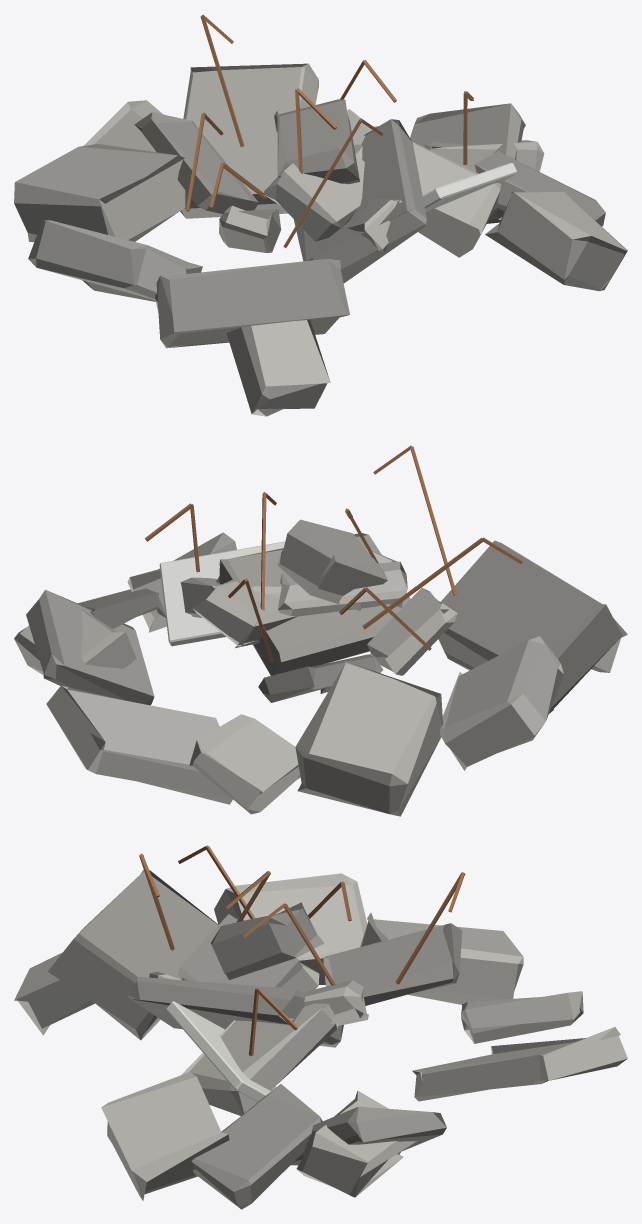
The model's file is v_rubble.glb.
3 views of the same model, one above another, from view 1: azimuth 30°, elevation 25°; view 2: azimuth 150°, elevation 25°; view 3: azimuth 270°, elevation 25° (orthographic).
Parts seen in each view (by area): view 1: Rubble; view 2: Rubble; view 3: Rubble.
Boxes of the visible parts, left/top/right/bottom form: Rubble: left=14, top=14, right=627, bottom=416; Rubble: left=14, top=445, right=627, bottom=816; Rubble: left=14, top=845, right=627, bottom=1209.
Size of what is drawn, in the model's own units: 3.99 by 1.72 by 4.11.
